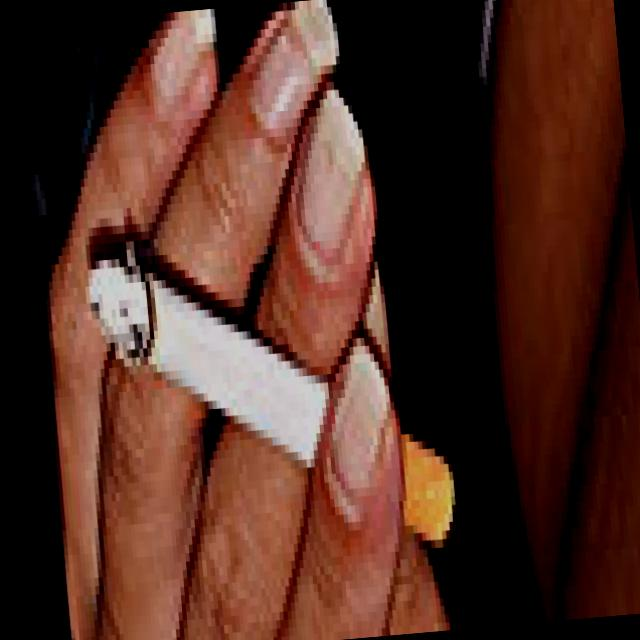cigarette: (74, 231, 320, 480)
